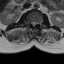CCS_normal: (33, 20, 35, 28)
LFS_severe_stenosis: (37, 20, 39, 25)
LLS_stenosis: (35, 20, 37, 26)
RFS_severe_stenosis: (28, 19, 30, 25)
RLS_stenosis: (30, 20, 33, 26)
